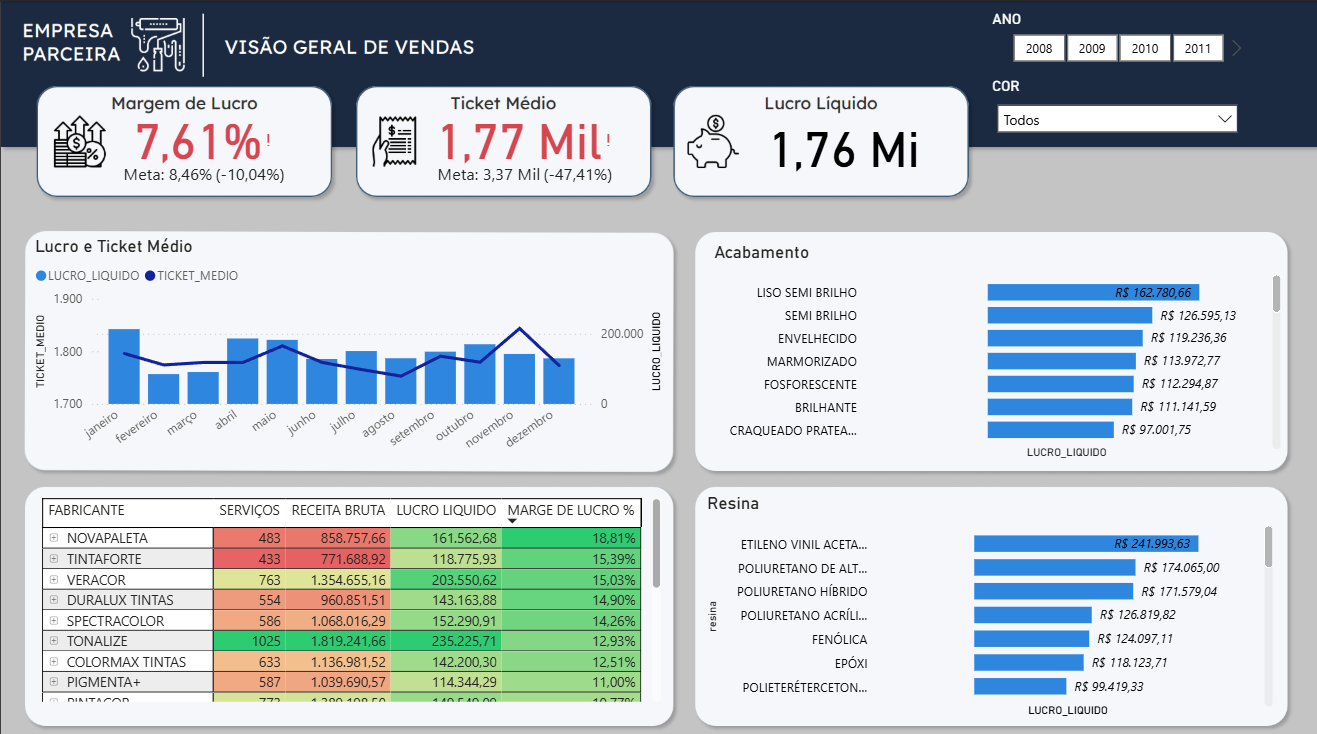

What the dashboard file says about the page in this screenshot:
{"tool":"powerbi","page":{"name":"Página 1","canvas":[1280,720],"ordinal":0},"visuals":[{"type":"card","title":"Lucro Liquido","fields":{"Values":["_medidas.Lucro"]},"box":[702.9,97.9,232.5,95.2],"z":0},{"type":"kpi","title":"Ticket Médio ","fields":{"Indicator":["_medidas.Ticket_medio"],"TrendLine":["origem servico.data_servico.Variation.Hierarquia de datas.Mês"],"Goal":["_medidas.Ticket_estimado"]},"box":[404.9,97.9,210.1,95.2],"z":1000},{"type":"kpi","title":"Margem de Lucro","fields":{"Indicator":["_medidas.Margem_lucro"],"TrendLine":["origem servico.data_servico.Variation.Hierarquia de datas.Mês"],"Goal":["_medidas.Margem_estimada"]},"box":[87.1,97.9,220,95.2],"z":2000},{"type":"lineClusteredColumnComboChart","title":"Lucro e Ticket Médio","fields":{"Category":["origem servico.data_servico.Variation.Hierarquia de datas.Mês"],"Y":["_medidas.Lucro"],"Y2":["_medidas.Ticket_medio"]},"box":[27.8,228.9,619.5,225.3],"z":3000},{"type":"pivotTable","fields":{"Rows":["origem fabricante.nome_fabricante","origem tinta.cor"],"Values":["_medidas.Total_serviços","_medidas.Receita_bruta","_medidas.Lucro","_medidas.Margem_lucro"]},"box":[35,478.5,612.3,208.3],"z":4000},{"type":"clusteredBarChart","title":"Acabamento","fields":{"Category":["origem acabamento.nome_acabamento"],"Y":["_medidas.Lucro"]},"box":[688.6,234.3,561.1,215.5],"z":5000},{"type":"clusteredBarChart","title":"Resina","fields":{"Category":["origem resina.nome_resina"],"Y":["_medidas.Lucro"]},"box":[682.3,478.5,560.2,221.7],"z":6000},{"type":"slicer","title":"ANO","fields":{"Values":["origem servico.data_servico.Variation.Hierarquia de datas.Ano"]},"box":[959.3,9.8,254.1,53.9],"z":7000},{"type":"slicer","title":"COR","fields":{"Values":["origem tinta.cor"]},"box":[959.3,74.4,254.1,61.9],"z":8000},{"type":"image","box":[1219.2,52.1,46.7,44.9],"z":9001}]}

Visuals, with their boxes in screenshot pixels (x1, y1, x2, y2), scaled from the page's 1280x720 canvas onto the 1317x734 screenshot:
"Lucro Liquido" card: [723, 100, 962, 197]
"Ticket Médio " kpi: [417, 100, 633, 197]
"Margem de Lucro" kpi: [90, 100, 316, 197]
"Lucro e Ticket Médio" lineClusteredColumnComboChart: [29, 233, 666, 463]
pivotTable - origem fabricante.nome_fabricante x origem tinta.cor: [36, 488, 666, 700]
"Acabamento" clusteredBarChart: [709, 239, 1286, 459]
"Resina" clusteredBarChart: [702, 488, 1278, 714]
"ANO" slicer: [987, 10, 1248, 65]
"COR" slicer: [987, 76, 1248, 139]
image: [1254, 53, 1302, 99]
